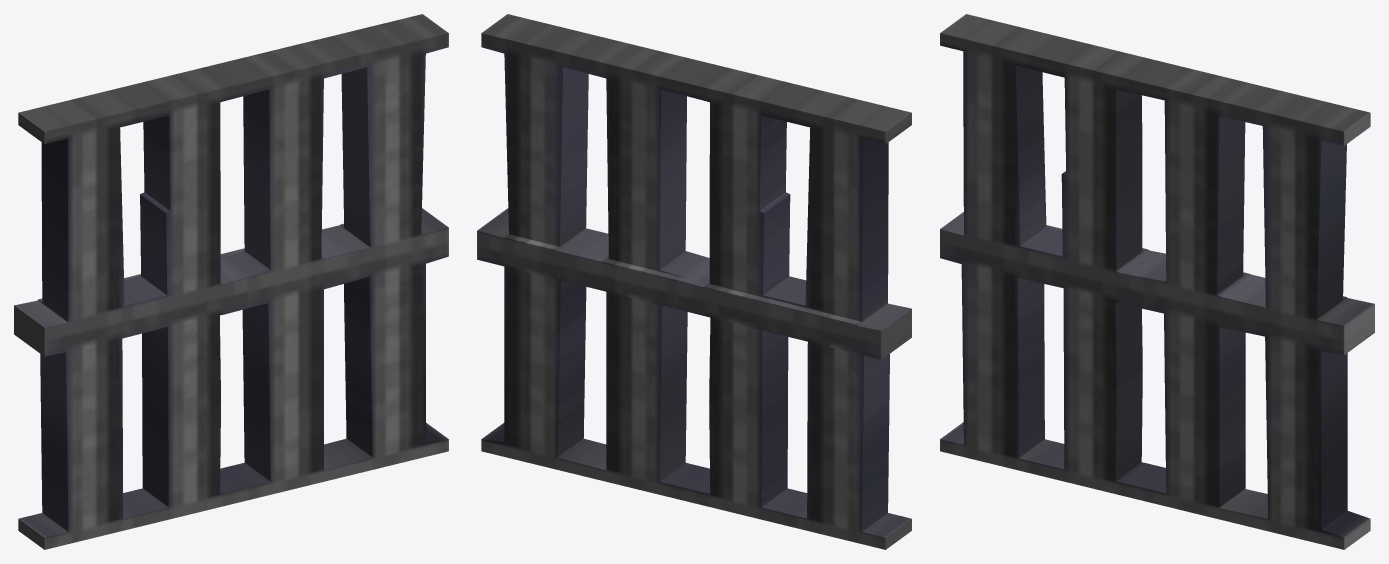
File: bars.fbx
The picture shows the model from 3 angles, left to right: view 1: azimuth 30°, elevation 25°; view 2: azimuth 150°, elevation 25°; view 3: azimuth 330°, elevation 25°; orthographic projection.
Visible parts, largest first — view 1: Plane; view 2: Plane; view 3: Plane.
Part boxes in pixels (x1=…): Plane: x1=14, y1=14, x2=448, y2=549; Plane: x1=477, y1=14, x2=911, y2=549; Plane: x1=940, y1=14, x2=1374, y2=549.
Size of the model in its own units: 188 by 185 by 24.46.
1 material, 1 textured.
